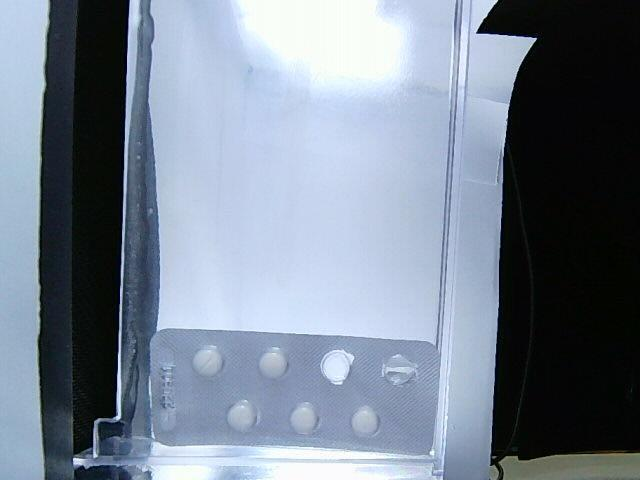Light Front: (149, 330, 439, 459)
No Pill Front: (320, 350, 355, 385), (381, 354, 417, 385)
Pill Front: (193, 345, 224, 377), (228, 401, 256, 432), (290, 403, 317, 435), (259, 349, 287, 379), (351, 406, 378, 436)
